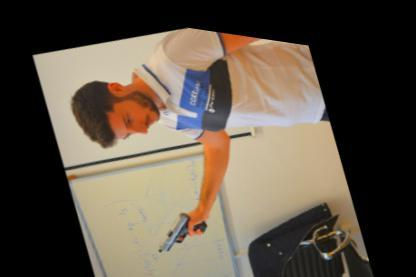pistol: (150, 195, 214, 252)
